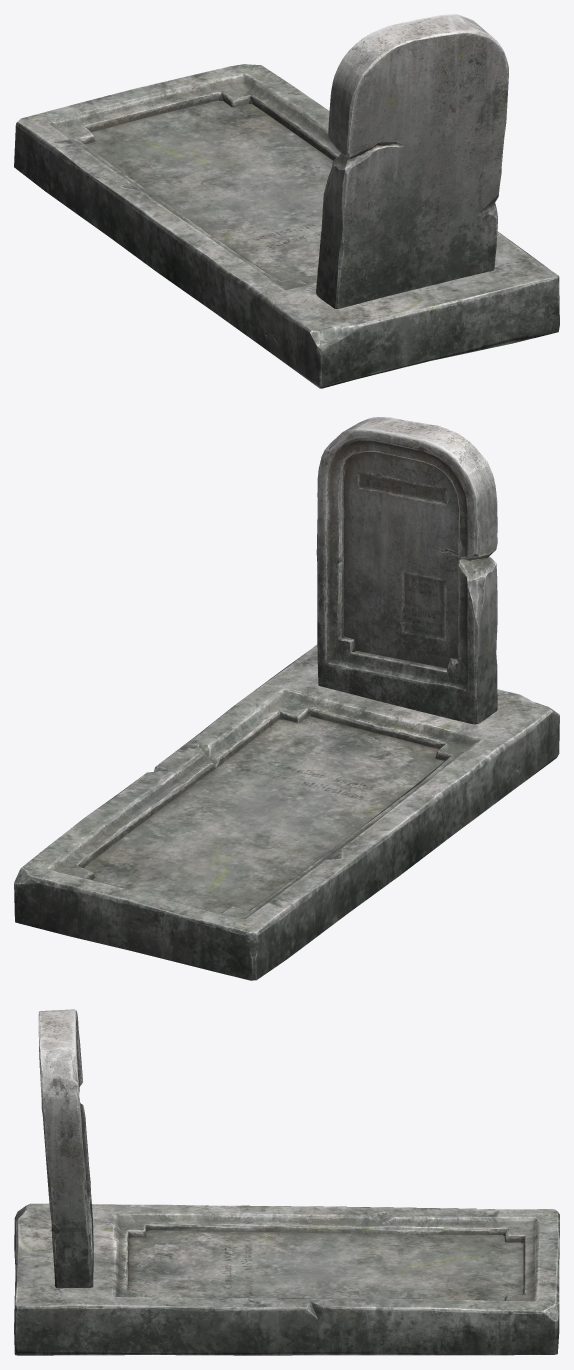
3 renders of one model, top to bottom at view 1: azimuth 30°, elevation 25°; view 2: azimuth 150°, elevation 25°; view 3: azimuth 270°, elevation 25°, orthographic. The views are drawn at different scales.
Visible parts, largest first — view 1: SM_Human_Gravestone_01v1_LOD0; view 2: SM_Human_Gravestone_01v1_LOD0; view 3: SM_Human_Gravestone_01v1_LOD0.
Boxes of the visible parts, bbox=[...] form: SM_Human_Gravestone_01v1_LOD0: bbox=[14, 14, 559, 388]; SM_Human_Gravestone_01v1_LOD0: bbox=[14, 417, 559, 980]; SM_Human_Gravestone_01v1_LOD0: bbox=[14, 1009, 559, 1355].
Bounding box in the file's own units: 1.61 × 2 × 3.51.
2 materials, 2 textured.
